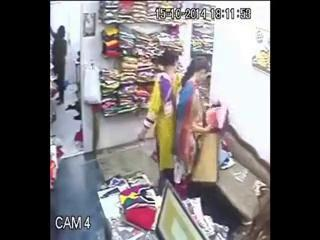shoplifting: (181, 54, 230, 188)
